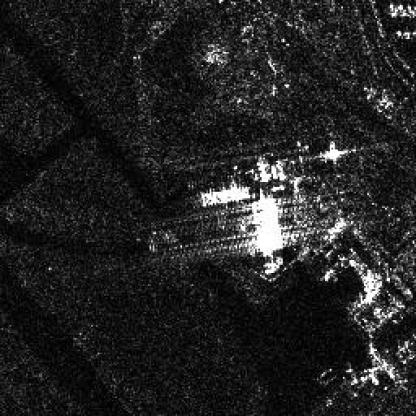airplane: (403, 31, 409, 41), (395, 29, 401, 36)
